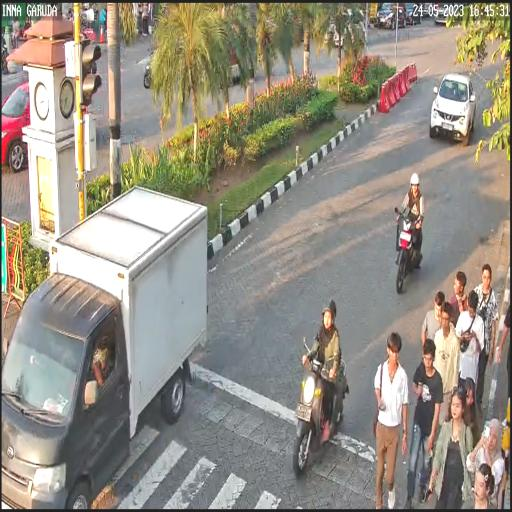mobil: (0, 181, 210, 505), (429, 72, 475, 145)
motor: (293, 334, 349, 476), (393, 204, 424, 296)
